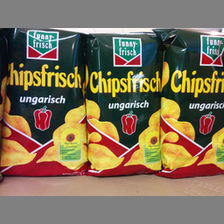chips: (1, 29, 86, 178), (86, 30, 161, 176), (160, 30, 224, 181)
